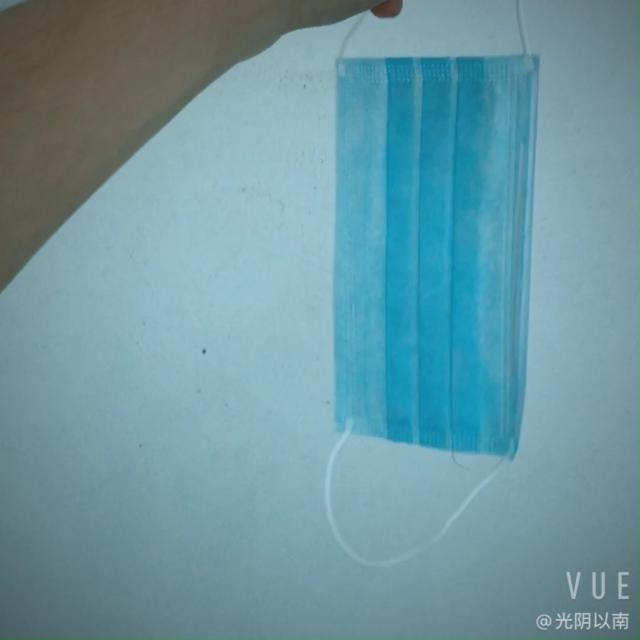non-organic waste: (318, 42, 560, 471)
